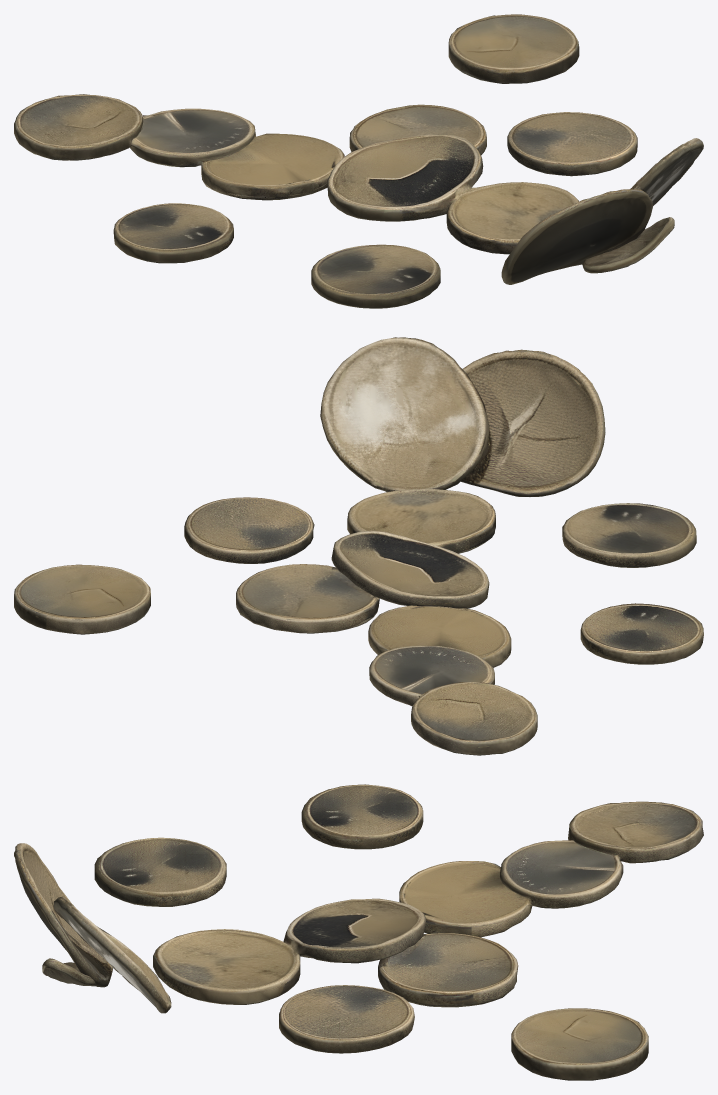
Rendered from Meshy_AI_Coins_on_the_dusty_gr_0313125816_texture.fbx.
3 views of the same model, one above another, from view 1: azimuth 30°, elevation 25°; view 2: azimuth 150°, elevation 25°; view 3: azimuth 270°, elevation 25° (orthographic). The views are drawn at different scales.
Parts seen in each view (by area): view 1: Mesh_0; view 2: Mesh_0; view 3: Mesh_0.
Boxes of the visible parts, <box> form: Mesh_0: <box>14,14,703,308</box>; Mesh_0: <box>14,337,703,755</box>; Mesh_0: <box>14,784,703,1080</box>.
Size of the model in its own units: 186 by 36.4 by 191.
1 material, 1 textured.
